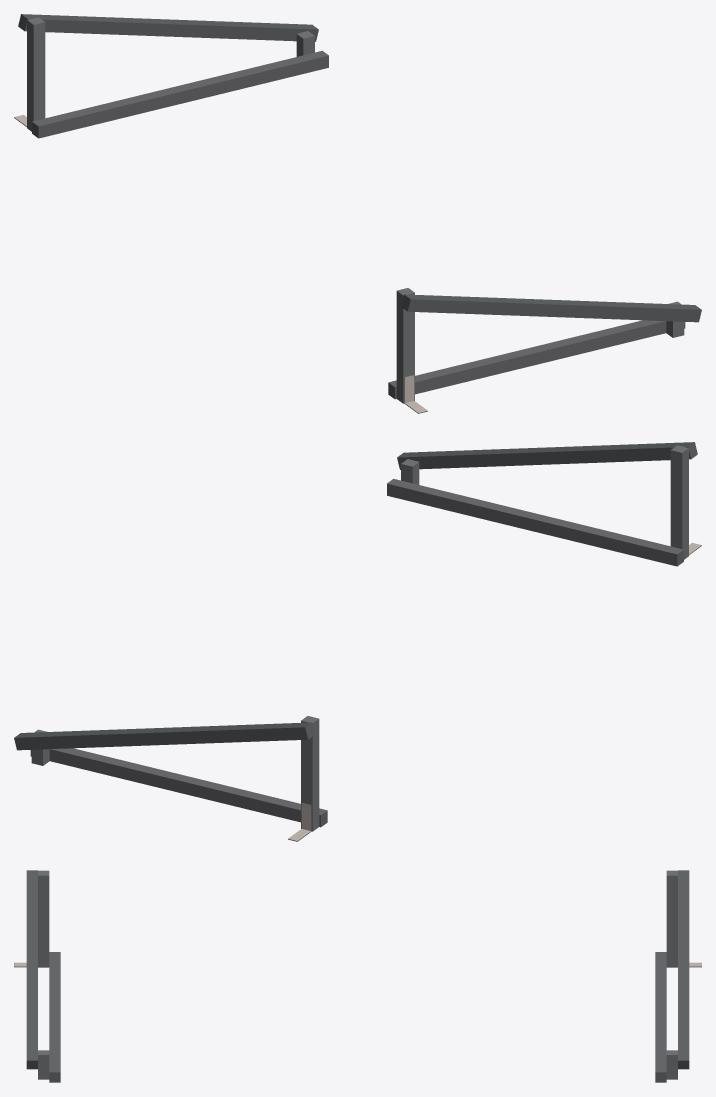
Rendered from kd_stage_135c43_4_72_bounded.glb.
The picture shows the model from 3 angles, top to bottom: view 1: azimuth 30°, elevation 25°; view 2: azimuth 150°, elevation 25°; view 3: azimuth 270°, elevation 25°; orthographic projection. The views are drawn at different scales.
Parts seen in each view (by area): view 1: kd_stage_135c43_4_72_bounded; view 2: kd_stage_135c43_4_72_bounded; view 3: kd_stage_135c43_4_72_bounded.
Part boxes in pixels (x1=…): kd_stage_135c43_4_72_bounded: x1=14, y1=14, x2=701, y2=413; kd_stage_135c43_4_72_bounded: x1=14, y1=442, x2=701, y2=841; kd_stage_135c43_4_72_bounded: x1=14, y1=870, x2=701, y2=1082.
Bounding box in the file's own units: 1.27 × 0.4512 × 3.03.
1 material, 1 textured.
